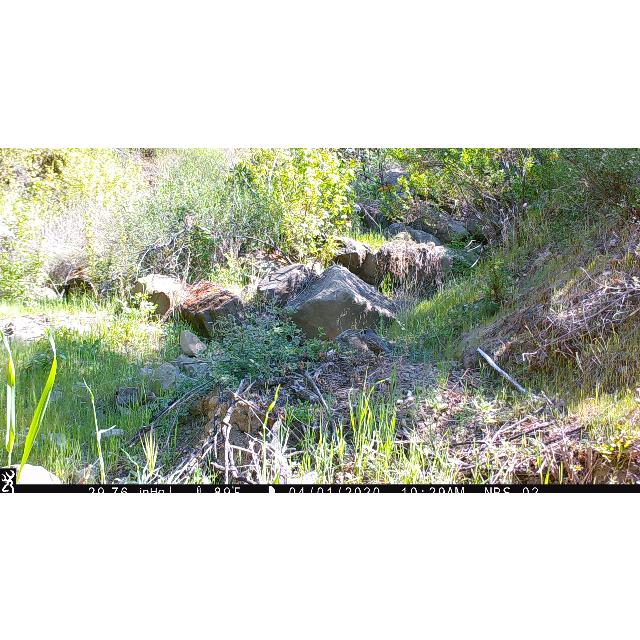animals: (362, 322, 392, 360)
